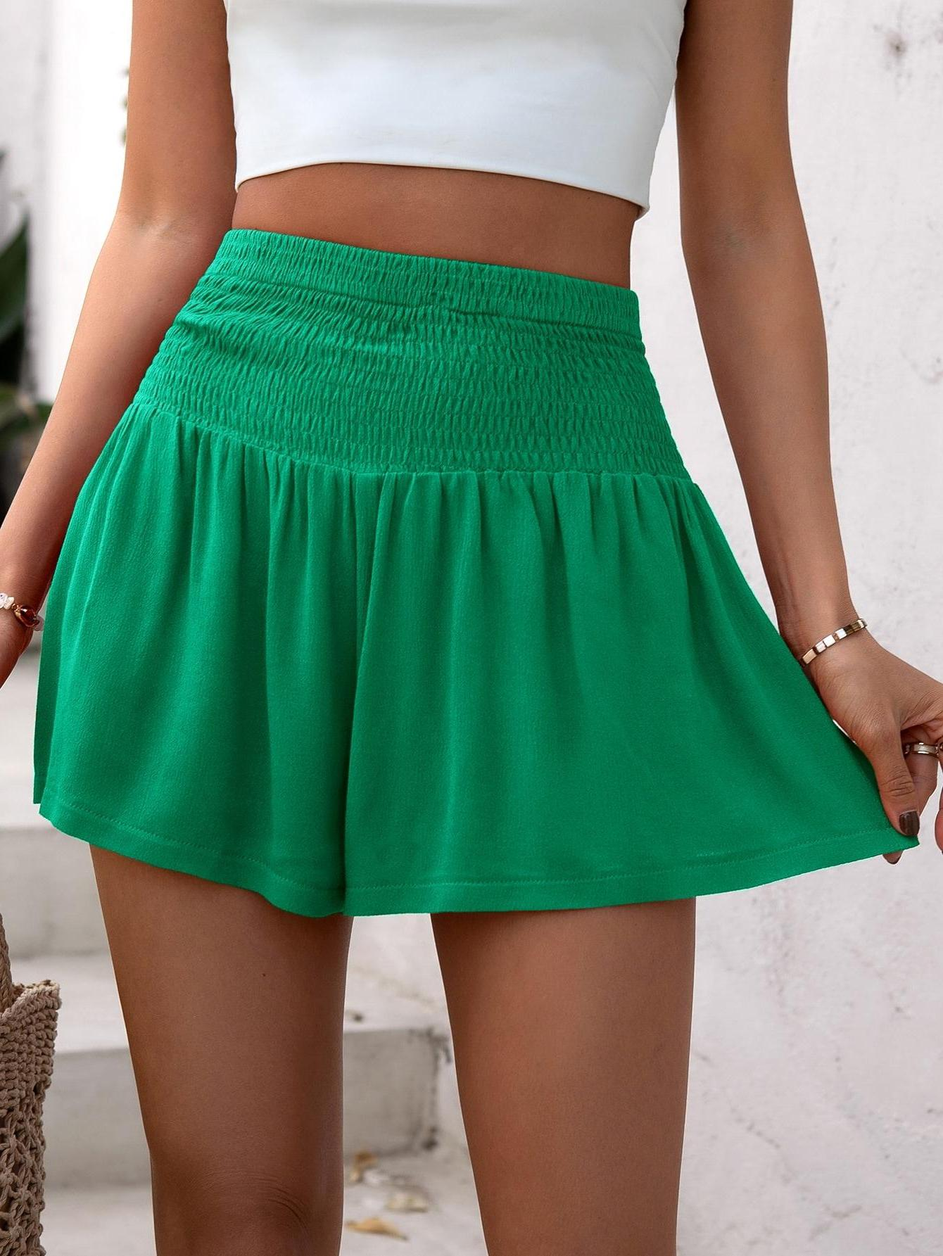short sleeve shirt: (199, 0, 695, 212)
skirt: (23, 226, 932, 920)
